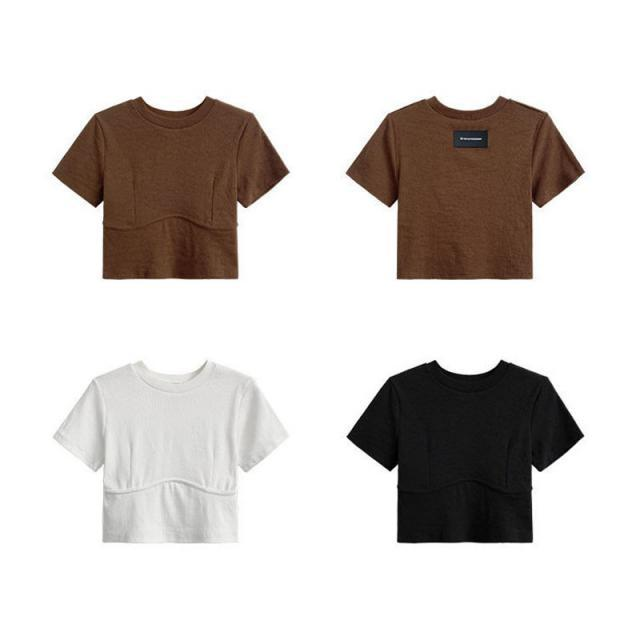Shirt: (340, 91, 582, 280), (55, 355, 292, 544), (52, 93, 292, 279), (346, 359, 585, 544)
